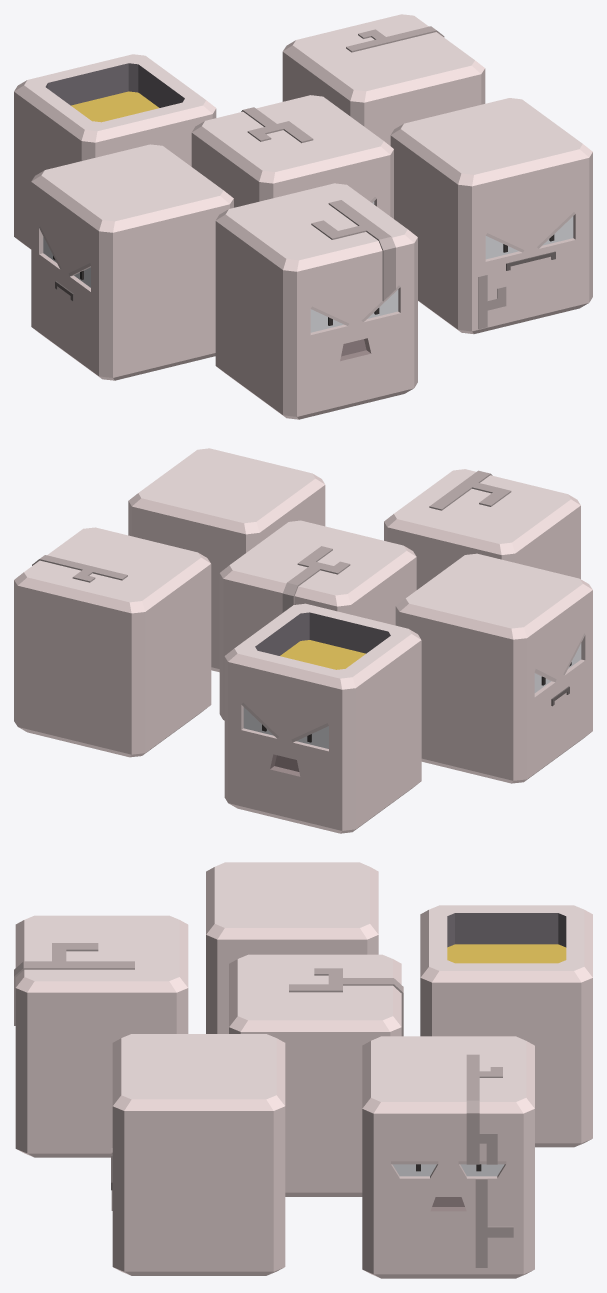
3 renders of one model, top to bottom at view 1: azimuth 30°, elevation 25°; view 2: azimuth 150°, elevation 25°; view 3: azimuth 270°, elevation 25°, orthographic. The views are drawn at different scales.
Visible parts, largest first — view 1: 0102_exeggcute; view 2: 0102_exeggcute; view 3: 0102_exeggcute.
Boxes of the visible parts, x1,y1,x2,y2 form: 0102_exeggcute: (14, 14, 592, 419); 0102_exeggcute: (14, 448, 592, 833); 0102_exeggcute: (14, 862, 592, 1278).
Bounding box in the file's own units: 2.64 × 0.883 × 2.6.
1 material, 1 textured.
